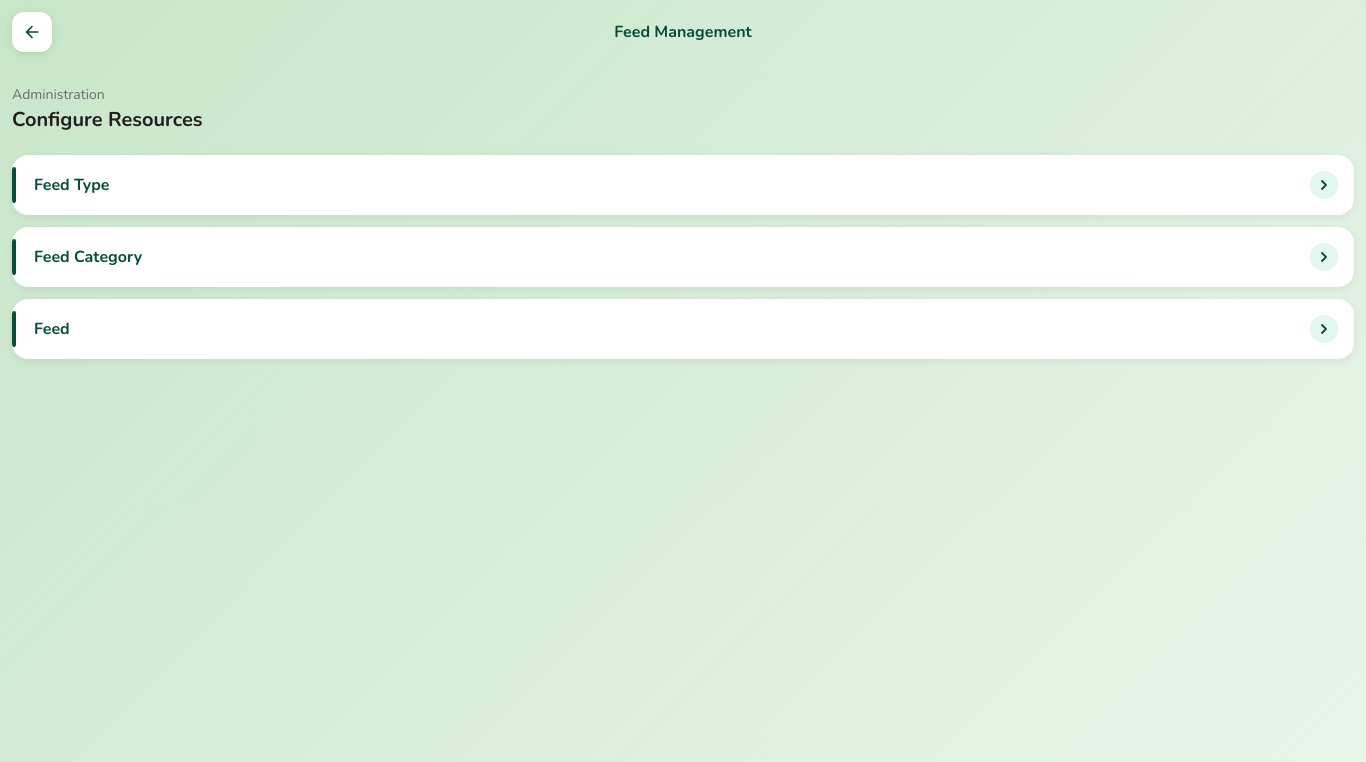
Test: Admin Feeds — Feed CRUD modal › edit mode lets the admin rename the feed and sends the trimmed new fd_name
The image size is (1366, 762).
Later steps or results of the test are not shown.
Click the button "Feed".
click(52, 329)  # box [12,299,1354,359]
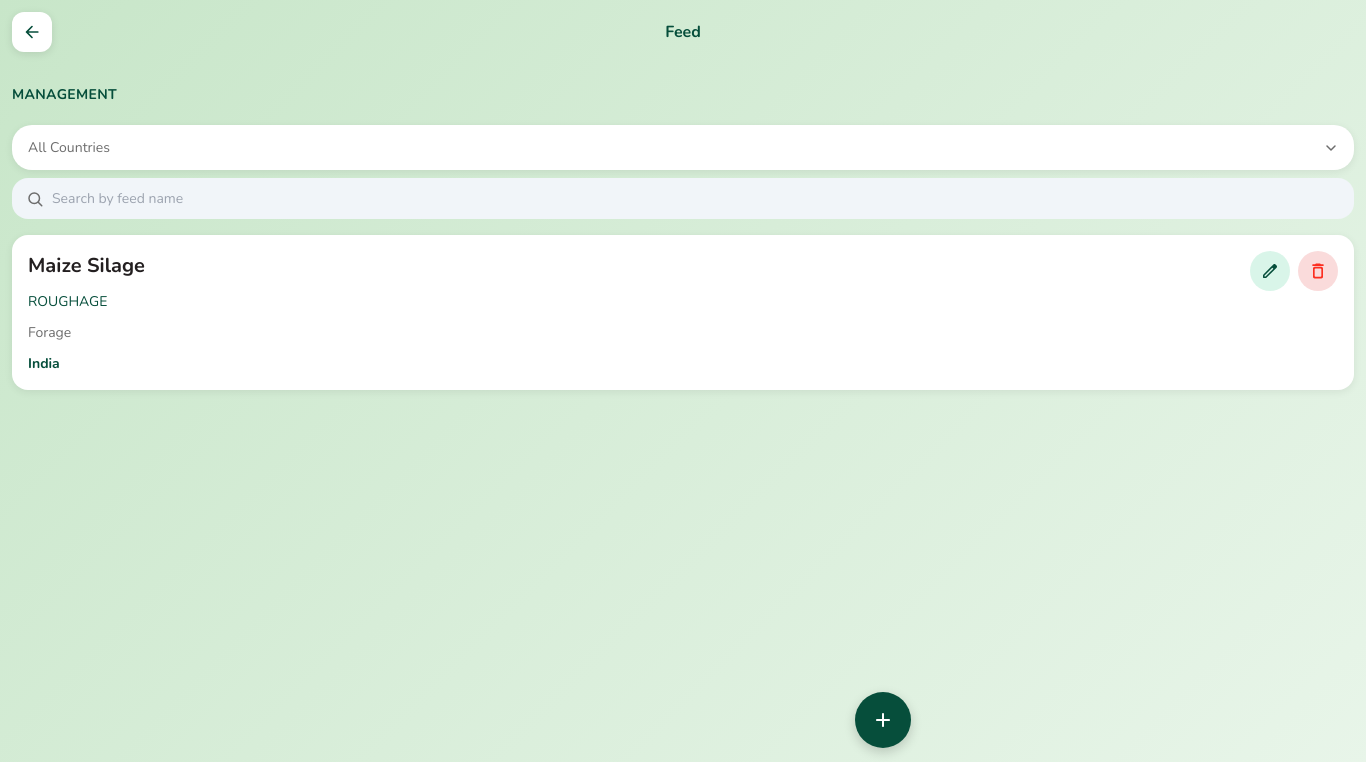
Check: the text "Maize Silage" is shown, box [28,252,145,279]
Click the button named "Edit feed".
click(1270, 271)  # box [1250,251,1290,291]
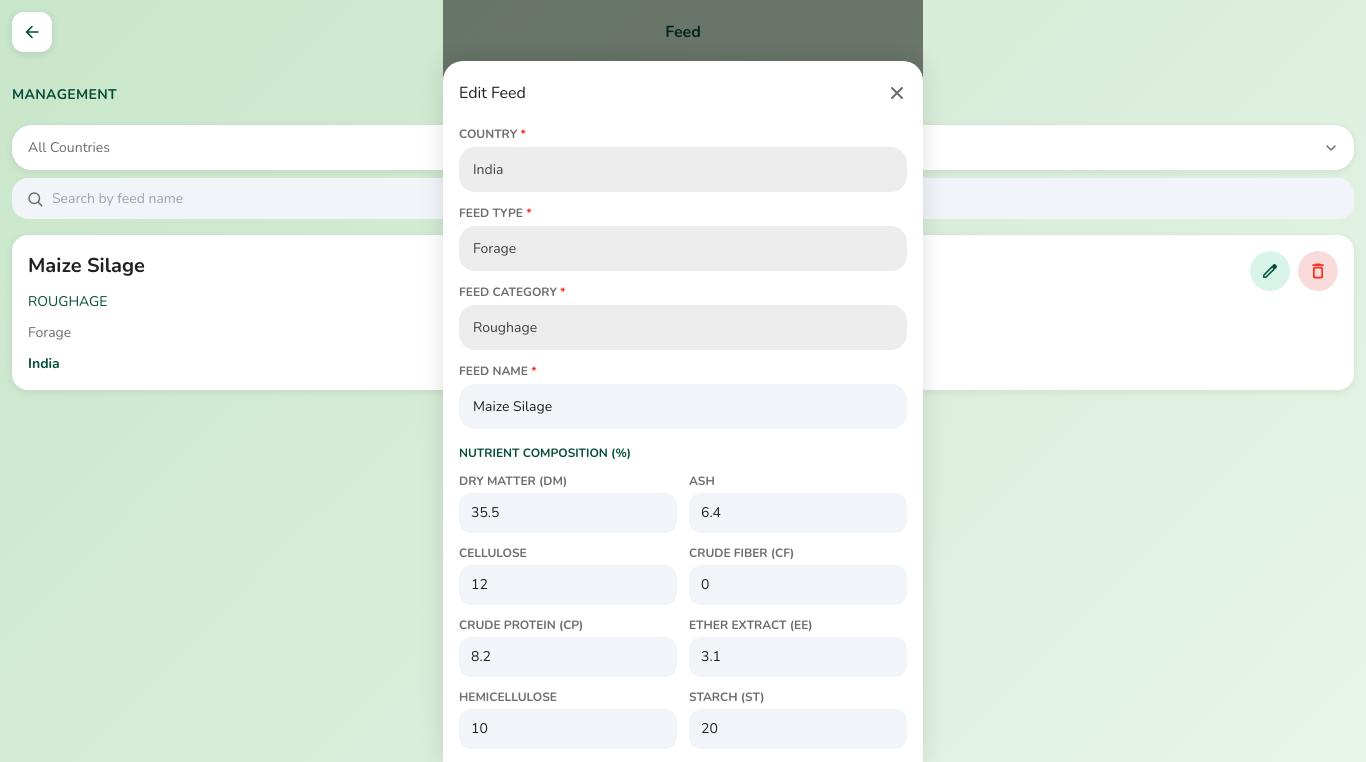
Check: the field named "Feed Name" is enabled, box [459,384,907,430]
Check: the field named "Feed Name" holds "Maize Silage", box [459,384,907,430]
